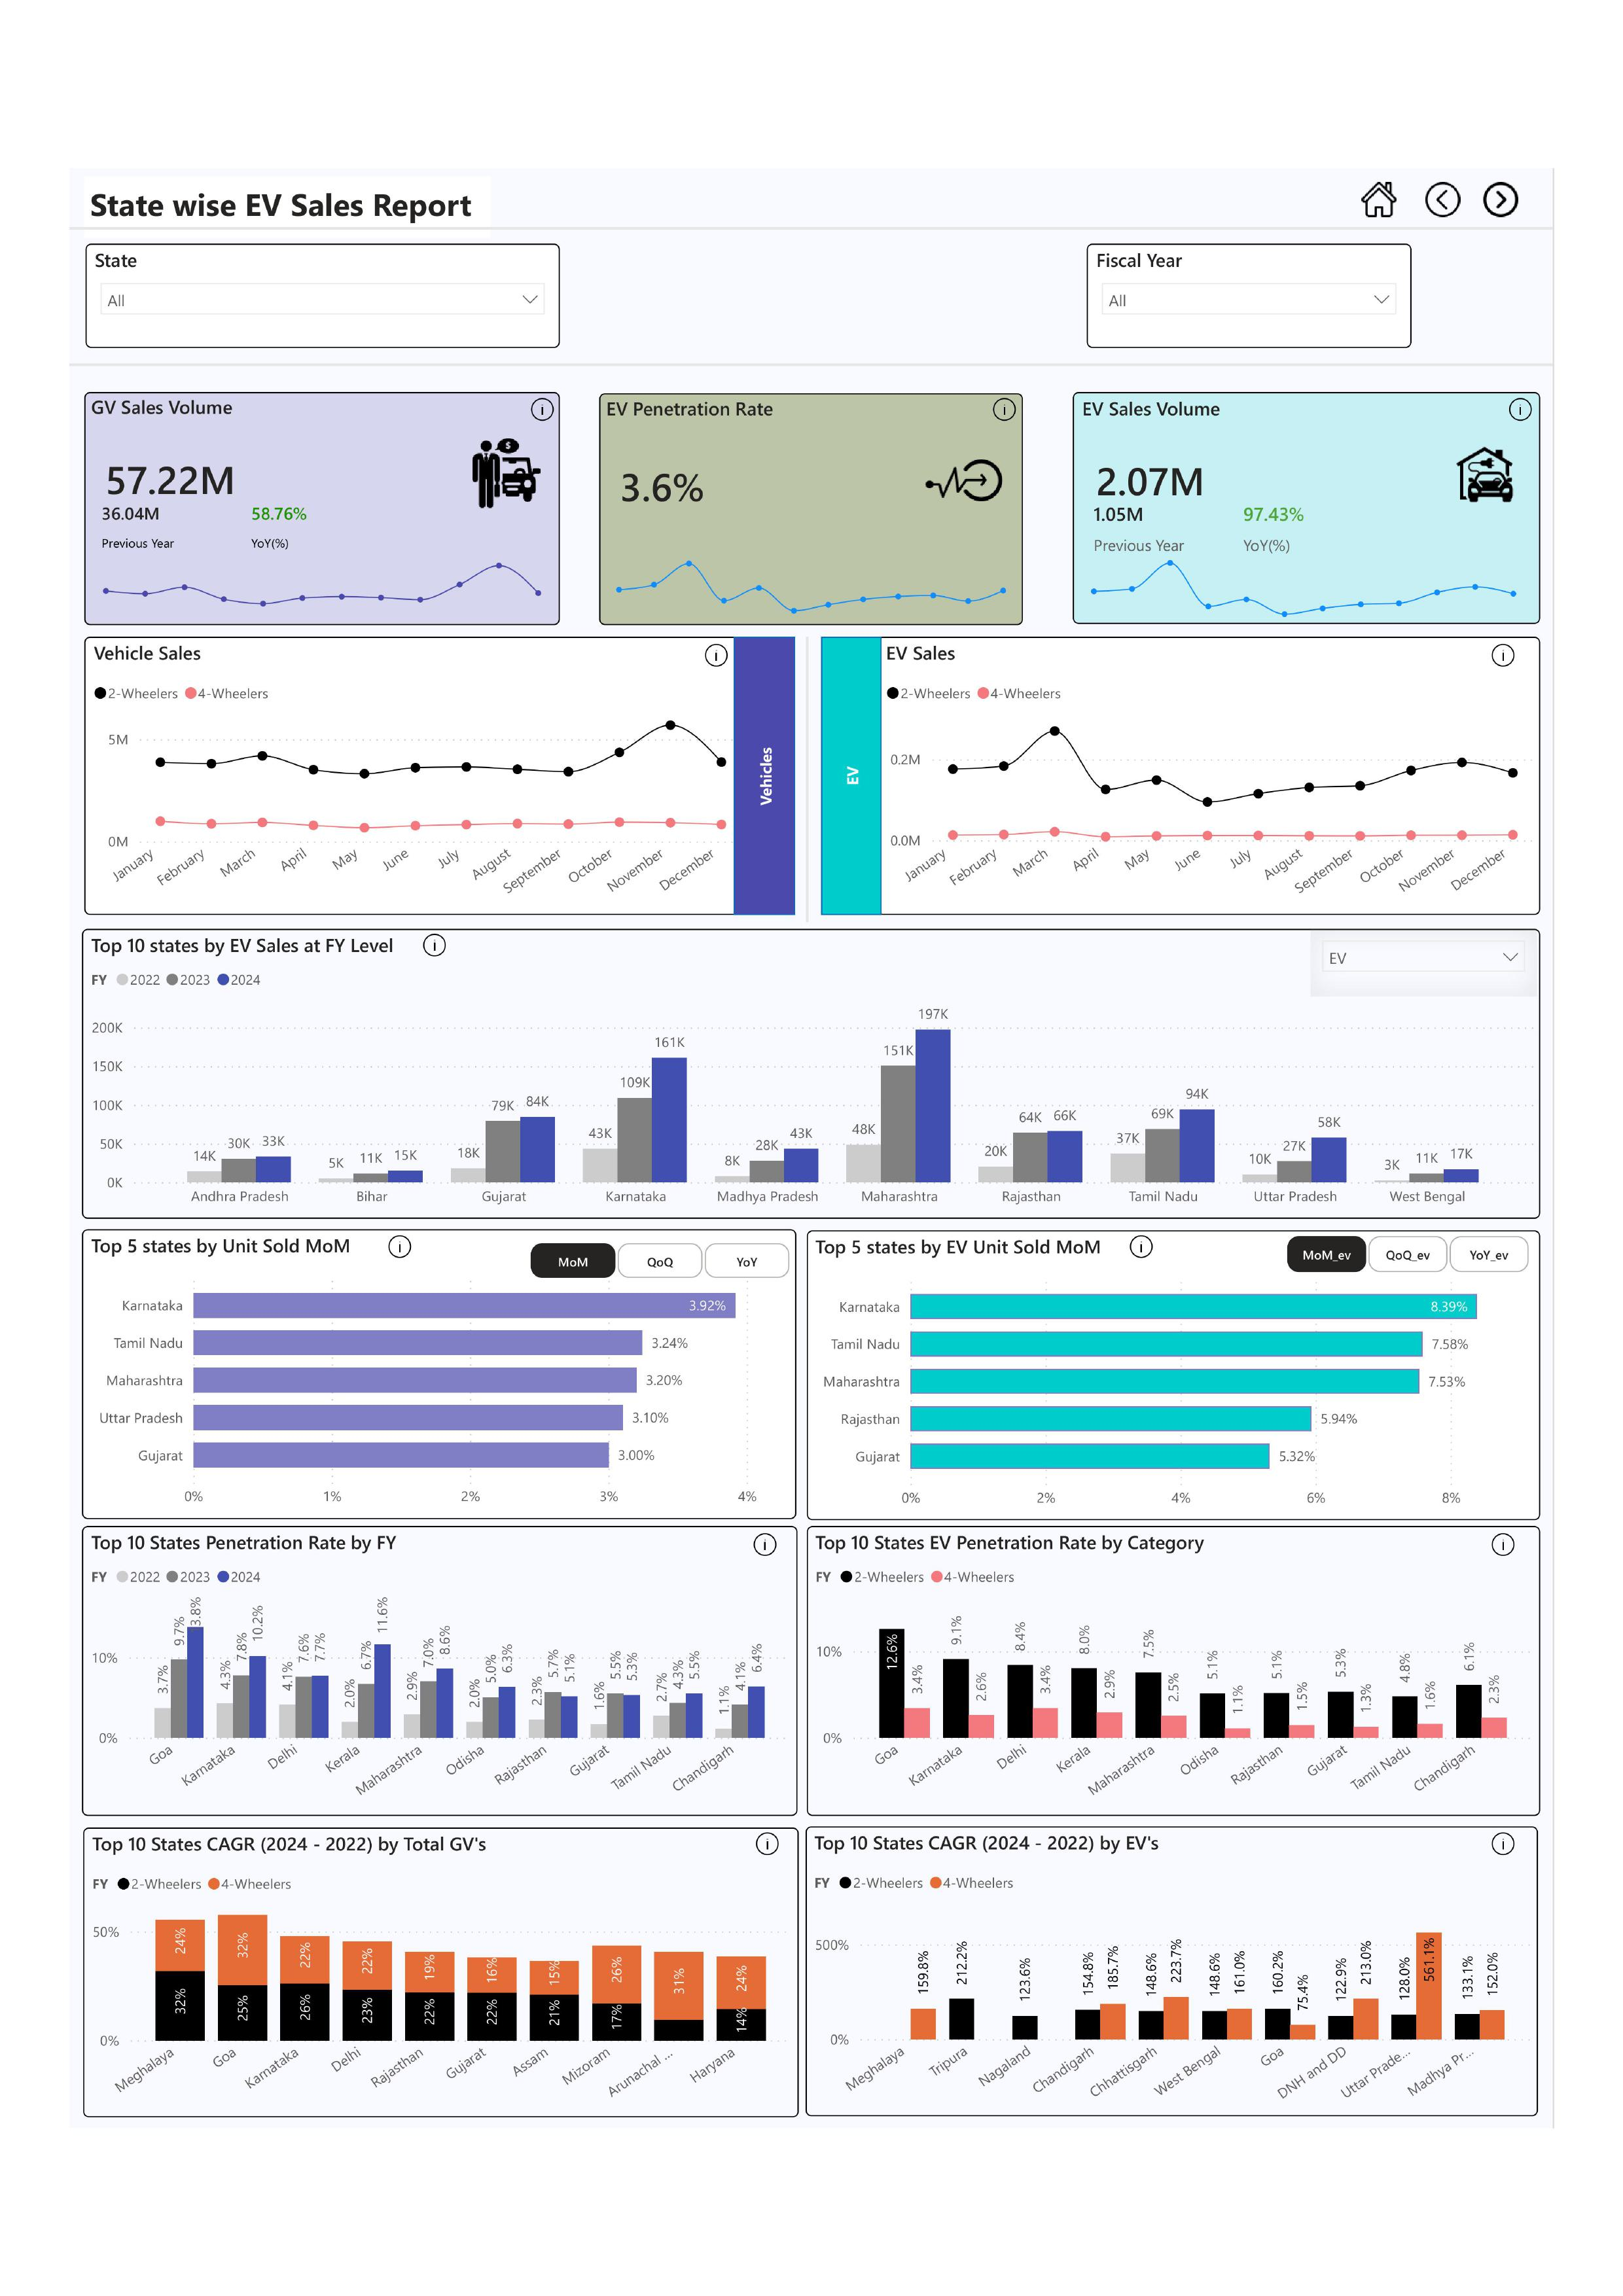

What the dashboard file says about the page in this screenshot:
{"tool":"powerbi","page":{"name":"State","canvas":[1280,1690],"ordinal":1},"visuals":[{"type":"cardVisual","fields":{"Data":["EV_by_state.previous_yr_vehc","EV_by_state.YoY_vehc_perc","EV_by_state.previous_qtr_vehc","EV_by_state.QoQ_vehc_perc","EV_by_state.previous_month_vehc","EV_by_state.MoM_vehc_perc"]},"box":[355.7,191.4,267.1,201.4],"z":0},{"type":"lineChart","title":"Vehicle Sales","fields":{"Category":["dim_date.date.Variation.Date Hierarchy.Month"],"Y":["electric_vehicle_sales_by_state.vehicles_sold_m"],"Series":["electric_vehicle_sales_by_state.vehicle_category"]},"box":[12.9,404.3,572.9,240],"z":1000},{"type":"lineChart","title":"EV Sales","fields":{"Category":["dim_date.date.Variation.Date Hierarchy.Month"],"Y":["electric_vehicle_sales_by_state.ev_sold_m"],"Series":["electric_vehicle_sales_by_state.vehicle_category"]},"box":[697.1,404.3,571.4,240],"z":2000},{"type":"shape","box":[572.9,404.3,52.9,240],"z":3000},{"type":"shape","box":[648.6,404.3,52.9,240],"z":4000},{"type":"textbox","box":[13.3,6.7,350,53.3],"z":5000},{"type":"slicer","fields":{"Values":["EV_by_state.state"]},"box":[14.8,77.1,222.9,78.6],"z":6000},{"type":"cardVisual","title":"EV Sales Volume","fields":{"Data":["electric_vehicle_sales_by_state.ev_sold_m"]},"box":[914.3,192.9,349.7,200],"z":6000},{"type":"shape","box":[0,46.4,1279.6,27.1],"z":7000},{"type":"lineChart","title":"Vehicle Sold Units","fields":{"Category":["dim_date.date.Variation.Date Hierarchy.Month"],"Y":["electric_vehicle_sales_by_state.vehicles_sold_m"]},"box":[12.9,325.7,350,68.6],"z":10000},{"type":"shape","box":[622.9,242.9,27.1,407.1],"z":11000},{"type":"cardVisual","title":"GV Sales Volume","fields":{"Data":["electric_vehicle_sales_by_state.vehicles_sold_m"]},"box":[12.9,192.4,350,201.6],"z":12000},{"type":"lineChart","title":"Vehicle Sold Units","fields":{"Category":["dim_date.date.Variation.Date Hierarchy.Month"],"Y":["EV_by_state.ev_sold_m"]},"box":[914.6,324.6,350,68.6],"z":13000},{"type":"cardVisual","fields":{"Data":["EV_by_state.previous_yr_ev","EV_by_state.YoY_ev_perc","EV_by_state.previous_qtr_ev","EV_by_state.QoQ_ev_perc","EV_by_state.previous_month_ev","EV_by_state.MoM_ev_perc"]},"box":[645.7,191.4,268.6,201.4],"z":14000},{"type":"clusteredBarChart","fields":{"Y":["EV_by_state.MoM_vehc_perc"],"Category":["EV_by_state.state"]},"box":[11,915.1,615.7,250],"z":15000,"group":"g1"},{"type":"advancedSlicerVisual","fields":{"Values":["Parameter.Value4"]},"box":[393.4,922.1,232.9,40],"z":16000,"group":"g1"},{"type":"clusteredBarChart","fields":{"Y":["EV_by_state.MoM_ev_perc"],"Category":["EV_by_state.state"]},"box":[635.7,915.7,632.9,250],"z":17000},{"type":"advancedSlicerVisual","fields":{"Values":["Parameter.Value4"]},"box":[1046.2,915.7,218.6,41.4],"z":18000},{"type":"clusteredColumnChart","fields":{"Category":["EV_by_state.state"],"Series":["dim_date.fiscal_year"],"Y":["EV_by_state.ev_sold_m"]},"box":[11.4,655.7,1257.1,250],"z":19000},{"type":"slicer","fields":{"Values":["parameter_sales.Value4"]},"box":[1071.4,655.7,194.3,58.6],"z":19001},{"type":"slicer","fields":{"Values":["EV_by_makers.maker"]},"box":[357.1,77.1,222.9,78.6],"z":19002},{"type":"slicer","fields":{"Values":["dim_date.fiscal_year"]},"box":[699.5,77.1,222.9,78.6],"z":19003},{"type":"slicer","fields":{"Values":["dim_date.quarter"]},"box":[1041.9,77.1,222.9,78.6],"z":19004},{"type":"clusteredColumnChart","title":"Top 10 States Penetration Rate by FY","fields":{"Y":["EV_by_state.penetration_rate"],"Category":["EV_by_state.state"],"Series":["dim_date.fiscal_year"]},"box":[11,1171.5,617.1,250],"z":19005},{"type":"clusteredColumnChart","title":"Top 10 States EV Penetration Rate by Category","fields":{"Y":["EV_by_state.penetration_rate"],"Category":["EV_by_state.state"],"Series":["EV_by_state.vehicle_category"]},"box":[635.7,1171.4,632.9,250],"z":19006},{"type":"shape","box":[0,155.7,1280,27.1],"z":19007},{"type":"group","id":"g1","title":"Group 1","box":[11,915.1,615.7,250],"z":19009},{"type":"clusteredColumnChart","title":"Top 10 States by CAGR (2024 - 2022) by Total GV''s","fields":{"Category":["EV_by_state.state"],"Y":["EV_by_state.CAGR_vehicle_sold"]},"box":[11.7,1430.8,617.1,250],"z":19010},{"type":"clusteredColumnChart","title":"Top 10 States by CAGR (2024 - 2022) by EV''s","fields":{"Category":["EV_by_state.state"],"Y":["EV_by_state.CAGR_ev_sold"]},"box":[635.3,1430.1,631.7,250],"z":19011},{"type":"image","box":[1110,6.7,50,50],"z":19012},{"type":"image","box":[1215,6.7,50,50],"z":19013},{"type":"image","box":[1165,6.7,50,50],"z":19014}]}

Visuals, with their boxes on the page's 1280x1690 design canvas (x1, y1, x2, y2). These are canvas units, not pixel positions in the 1623x2296 screenshot, which may show the page scaled, cropped or inside an application window:
cardVisual - EV_by_state.previous_yr_vehc x EV_by_state.YoY_vehc_perc: <box>356,191,623,393</box>
"Vehicle Sales" lineChart: <box>13,404,586,644</box>
"EV Sales" lineChart: <box>697,404,1268,644</box>
shape: <box>573,404,626,644</box>
shape: <box>649,404,702,644</box>
textbox: <box>13,7,363,60</box>
slicer - EV_by_state.state: <box>15,77,238,156</box>
"EV Sales Volume" cardVisual: <box>914,193,1264,393</box>
shape: <box>0,46,1280,74</box>
"Vehicle Sold Units" lineChart: <box>13,326,363,394</box>
shape: <box>623,243,650,650</box>
"GV Sales Volume" cardVisual: <box>13,192,363,394</box>
"Vehicle Sold Units" lineChart: <box>915,325,1265,393</box>
cardVisual - EV_by_state.previous_yr_ev x EV_by_state.YoY_ev_perc: <box>646,191,914,393</box>
clusteredBarChart - EV_by_state.MoM_vehc_perc x EV_by_state.state: <box>11,915,627,1165</box>
advancedSlicerVisual - Parameter.Value4: <box>393,922,626,962</box>
clusteredBarChart - EV_by_state.MoM_ev_perc x EV_by_state.state: <box>636,916,1269,1166</box>
advancedSlicerVisual - Parameter.Value4: <box>1046,916,1265,957</box>
clusteredColumnChart - EV_by_state.state x dim_date.fiscal_year: <box>11,656,1268,906</box>
slicer - parameter_sales.Value4: <box>1071,656,1266,714</box>
slicer - EV_by_makers.maker: <box>357,77,580,156</box>
slicer - dim_date.fiscal_year: <box>700,77,922,156</box>
slicer - dim_date.quarter: <box>1042,77,1265,156</box>
"Top 10 States Penetration Rate by FY" clusteredColumnChart: <box>11,1172,628,1422</box>
"Top 10 States EV Penetration Rate by Category" clusteredColumnChart: <box>636,1171,1269,1421</box>
shape: <box>0,156,1280,183</box>
"Group 1" group: <box>11,915,627,1165</box>
"Top 10 States by CAGR (2024 - 2022) by Total GV''s" clusteredColumnChart: <box>12,1431,629,1681</box>
"Top 10 States by CAGR (2024 - 2022) by EV''s" clusteredColumnChart: <box>635,1430,1267,1680</box>
image: <box>1110,7,1160,57</box>
image: <box>1215,7,1265,57</box>
image: <box>1165,7,1215,57</box>
